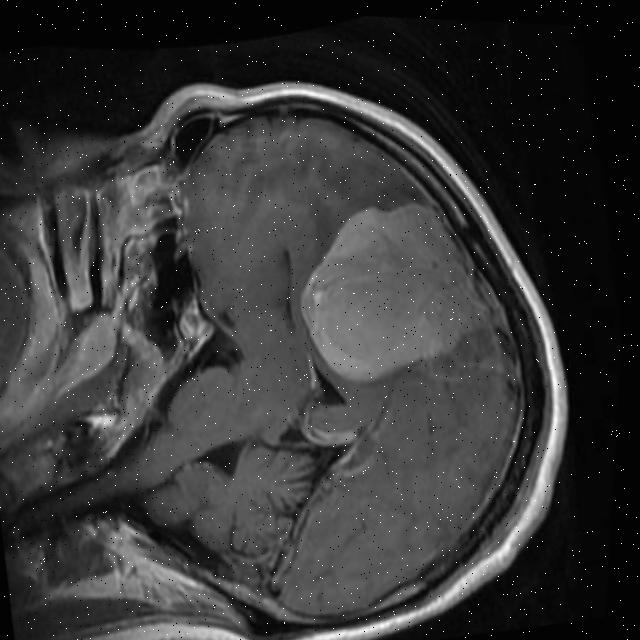Meningioma: (275, 182, 502, 398)
